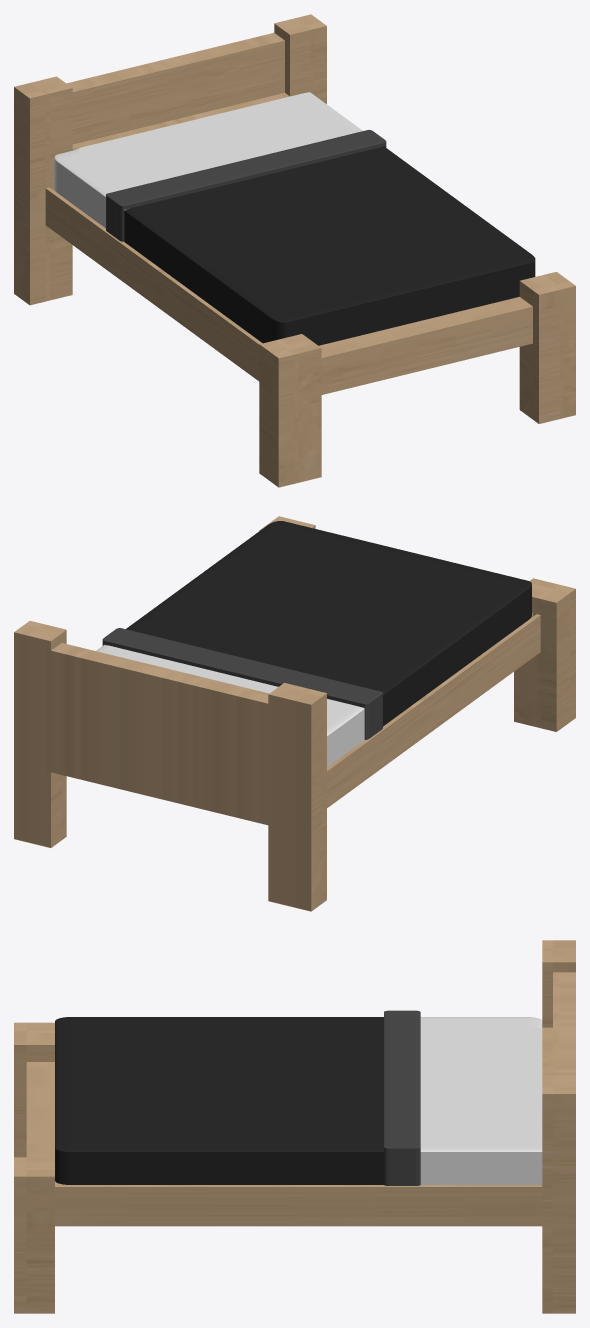
File: bed.fbx
3 renders of one model, top to bottom at view 1: azimuth 30°, elevation 25°; view 2: azimuth 150°, elevation 25°; view 3: azimuth 270°, elevation 25°, orthographic. The views are drawn at different scales.
Visible parts, largest first — view 1: Cube.001, Cube, Cube.002; view 2: Cube, Cube.001, Cube.002; view 3: Cube.001, Cube, Cube.002.
Boxes of the visible parts, <box> form: Cube.001: <box>54,92,535,345</box>; Cube: <box>14,14,575,487</box>; Cube.002: <box>106,130,386,241</box>; Cube: <box>14,516,575,911</box>; Cube.001: <box>96,521,531,767</box>; Cube.002: <box>102,628,382,739</box>; Cube.001: <box>55,1017,542,1184</box>; Cube: <box>14,940,575,1313</box>; Cube.002: <box>384,1010,420,1185</box>.
Bounding box in the file's own units: 585 × 389 × 902.
Materials: 4 (1 with a texture image).
